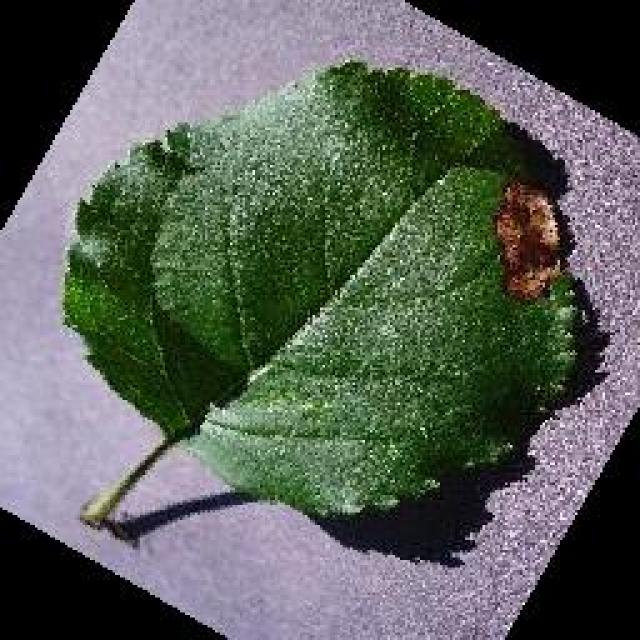Black_rot: (60, 55, 580, 530)
